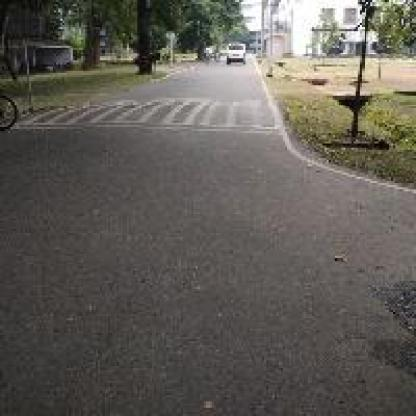Speed Bump: (23, 94, 274, 137)
